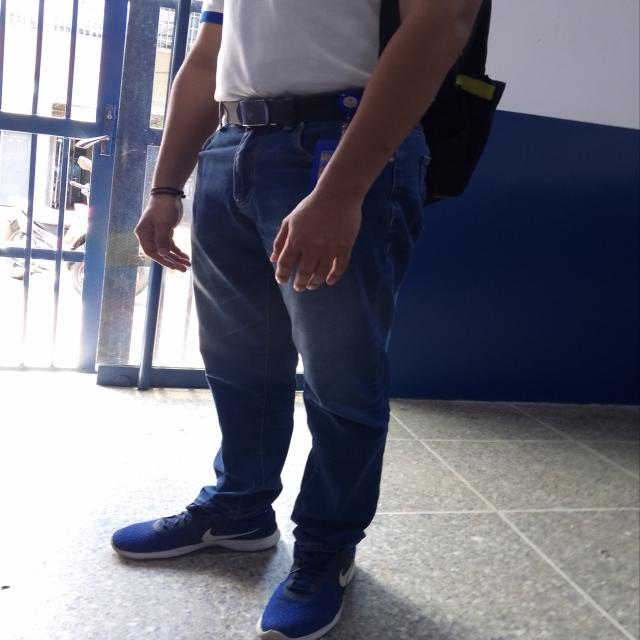pantalon_oscuro: (190, 116, 409, 560)
